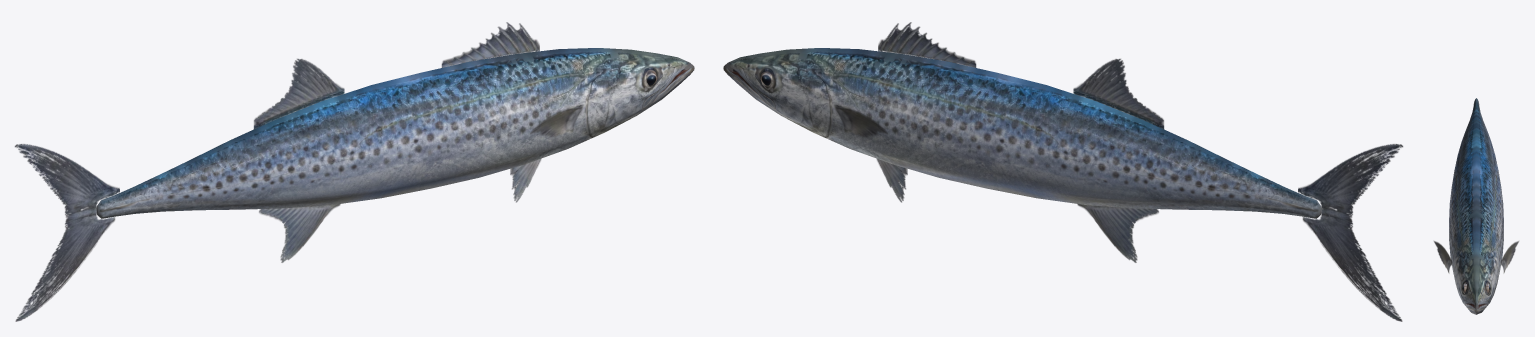
File: sawara_lo.glb
3 views of the same model, side by side, from view 1: azimuth 30°, elevation 25°; view 2: azimuth 150°, elevation 25°; view 3: azimuth 270°, elevation 25° (orthographic). The views are drawn at different scales.
Visible parts, largest first — view 1: sawara; view 2: sawara; view 3: sawara.
Part boxes in pixels (x1=…): sawara: x1=15, y1=22, x2=694, y2=321; sawara: x1=723, y1=22, x2=1402, y2=321; sawara: x1=1434, y1=98, x2=1518, y2=314.
Size of the model in its own units: 0.8012 by 0.2267 by 0.1281.
Materials: 1 (1 with a texture image).
